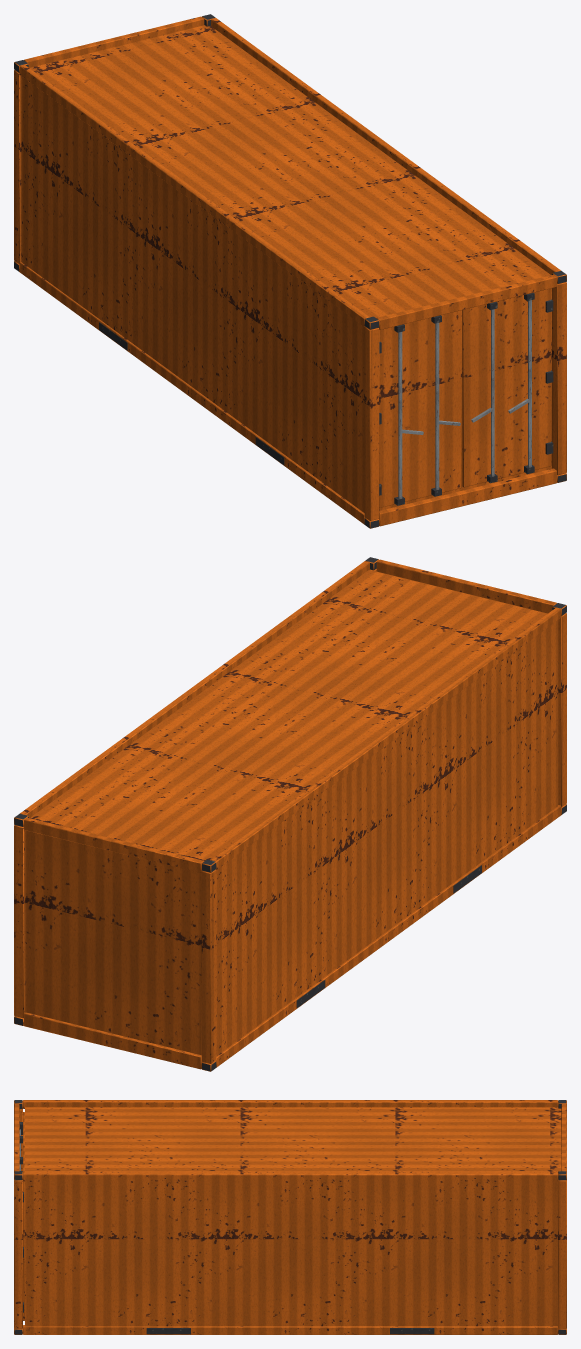
Rendered from container_orange.glb.
3 renders of one model, top to bottom at view 1: azimuth 30°, elevation 25°; view 2: azimuth 150°, elevation 25°; view 3: azimuth 270°, elevation 25°, orthographic. The views are drawn at different scales.
Visible parts, largest first — view 1: container; view 2: container; view 3: container.
Boxes of the visible parts, box(x1,y1,x2,y2) form: container: box(14, 14, 566, 528); container: box(14, 557, 566, 1071); container: box(14, 1100, 566, 1334).
Bounding box in the file's own units: 3.21 × 3.2 × 10.
Materials: 3 (3 with a texture image).
